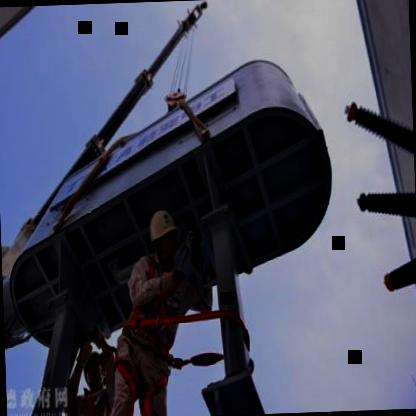helmet: (146, 205, 180, 265), (78, 346, 109, 391)
